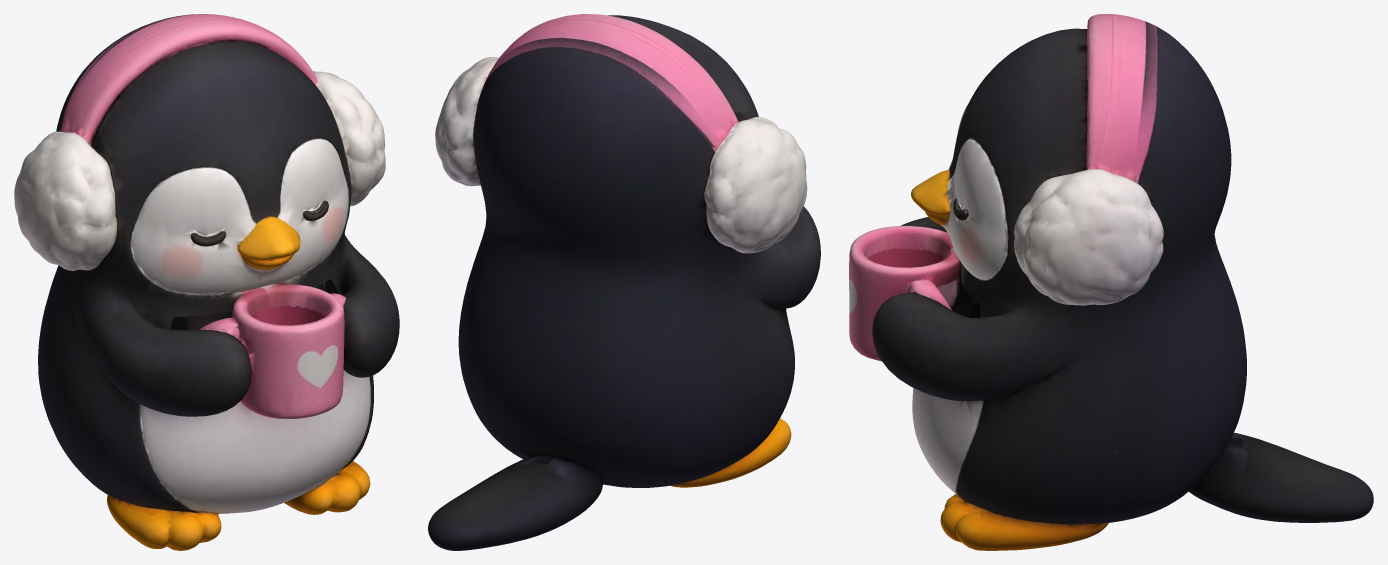
The model's file is model-mobile-v003.glb.
The picture shows the model from 3 angles, left to right: view 1: azimuth 30°, elevation 25°; view 2: azimuth 150°, elevation 25°; view 3: azimuth 270°, elevation 25°; orthographic projection. The views are drawn at different scales.
Parts seen in each view (by area): view 1: tmpjz9g8rkcobj; view 2: tmpjz9g8rkcobj; view 3: tmpjz9g8rkcobj.
Part boxes in pixels (x1=…): tmpjz9g8rkcobj: x1=14, y1=14, x2=399, y2=550; tmpjz9g8rkcobj: x1=428, y1=14, x2=820, y2=550; tmpjz9g8rkcobj: x1=849, y1=14, x2=1373, y2=550.
Size of the model in its own units: 0.7786 by 0.994 by 1.
Materials: 1 (1 with a texture image).
